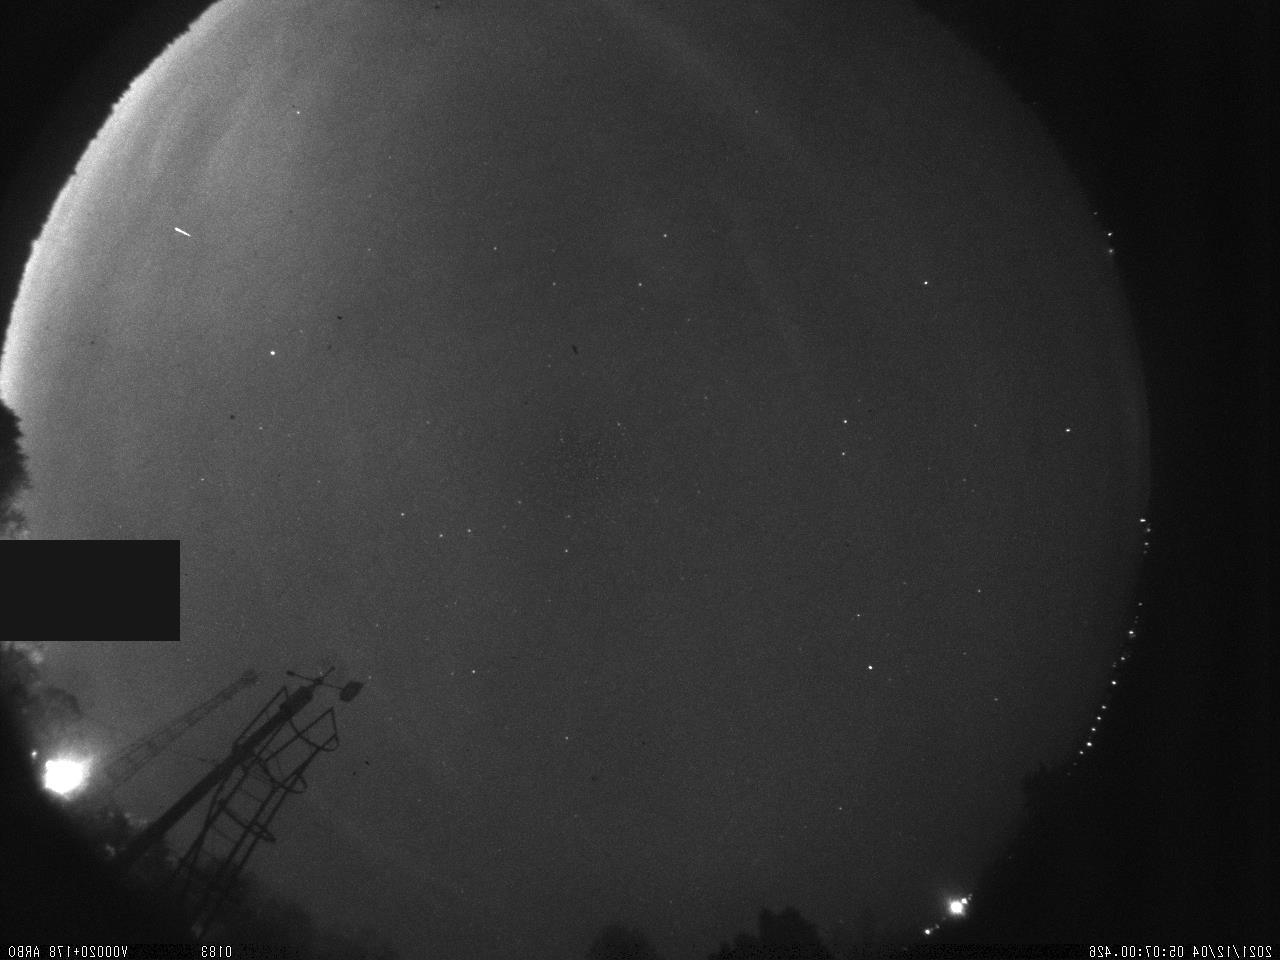meteor: (168, 218, 219, 246)
